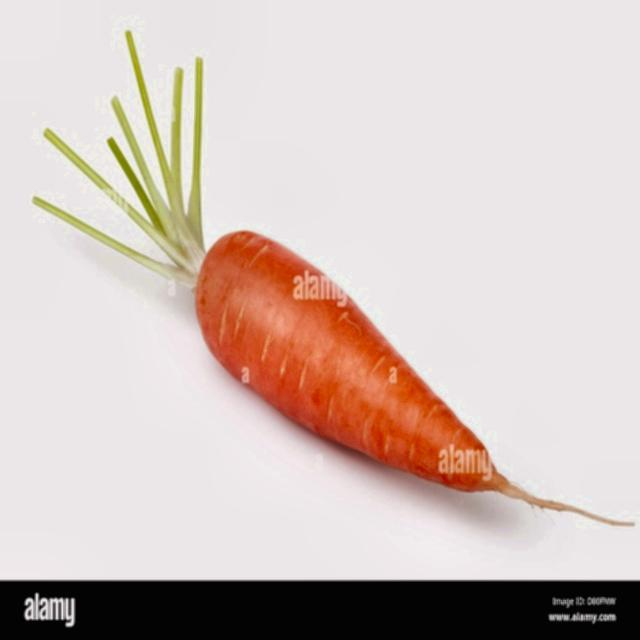carrot: (34, 32, 631, 526)
